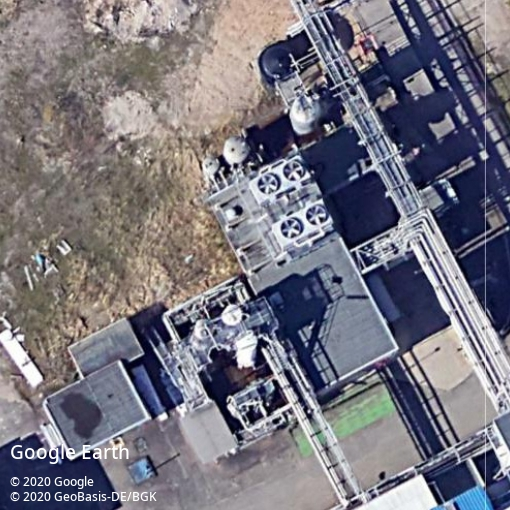Vent: (282, 160, 305, 182), (256, 173, 279, 195), (305, 204, 328, 225), (280, 218, 302, 238)
